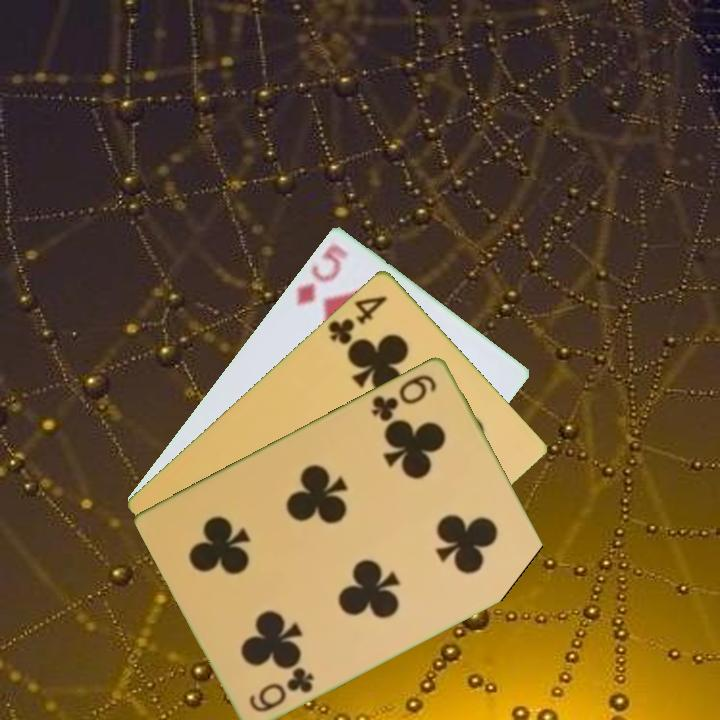4c: (324, 291, 390, 347)
5d: (292, 239, 351, 309)
6c: (368, 370, 440, 424), (245, 663, 317, 715)
